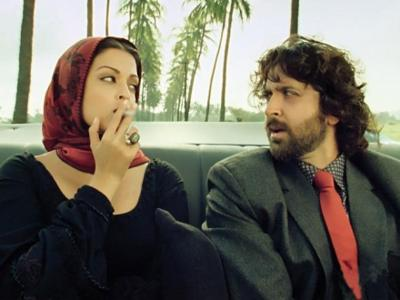person: (1, 35, 195, 299)
